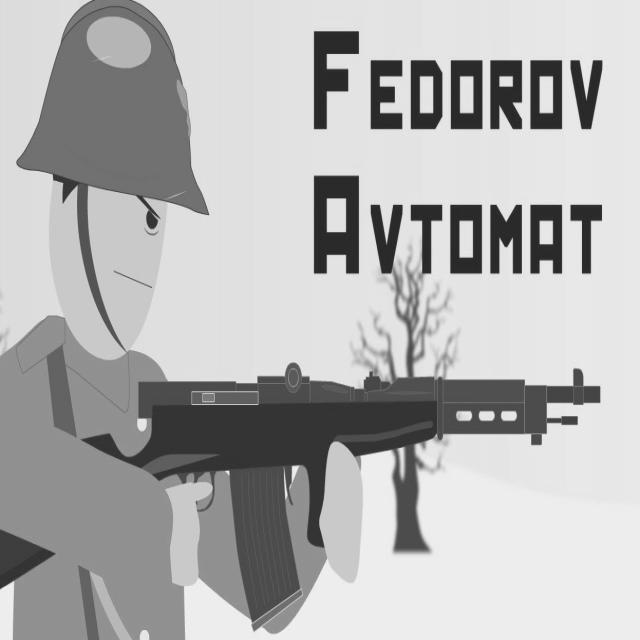Weapon: (83, 362, 600, 629), (0, 528, 51, 587)
